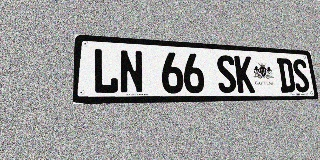6: (161, 52, 184, 93), (182, 53, 205, 93)
D: (276, 58, 296, 92)
K: (234, 56, 255, 93)
L: (92, 48, 119, 94)
N: (119, 49, 144, 94)
S: (216, 55, 237, 93), (291, 59, 310, 92)
